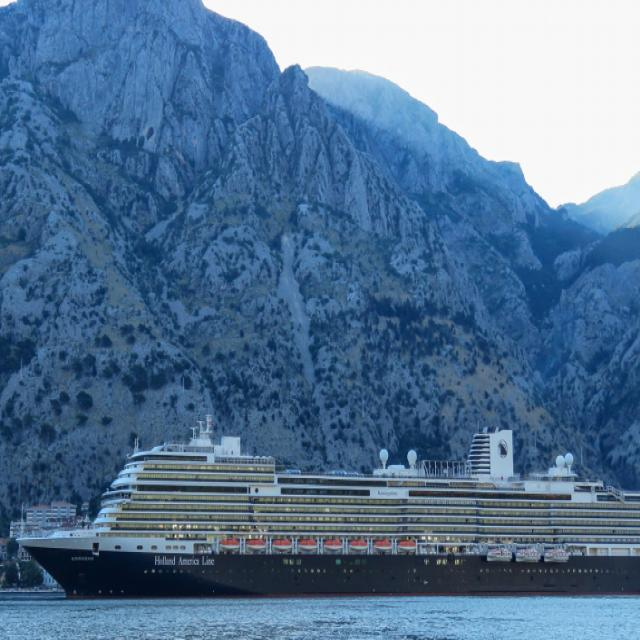cruises: (16, 403, 640, 602)
